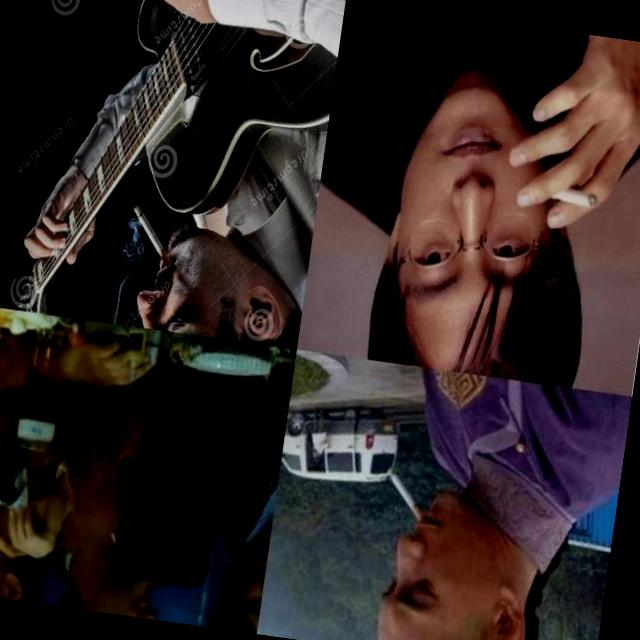smoke: (504, 27, 640, 242), (123, 199, 186, 279), (379, 466, 431, 524)
